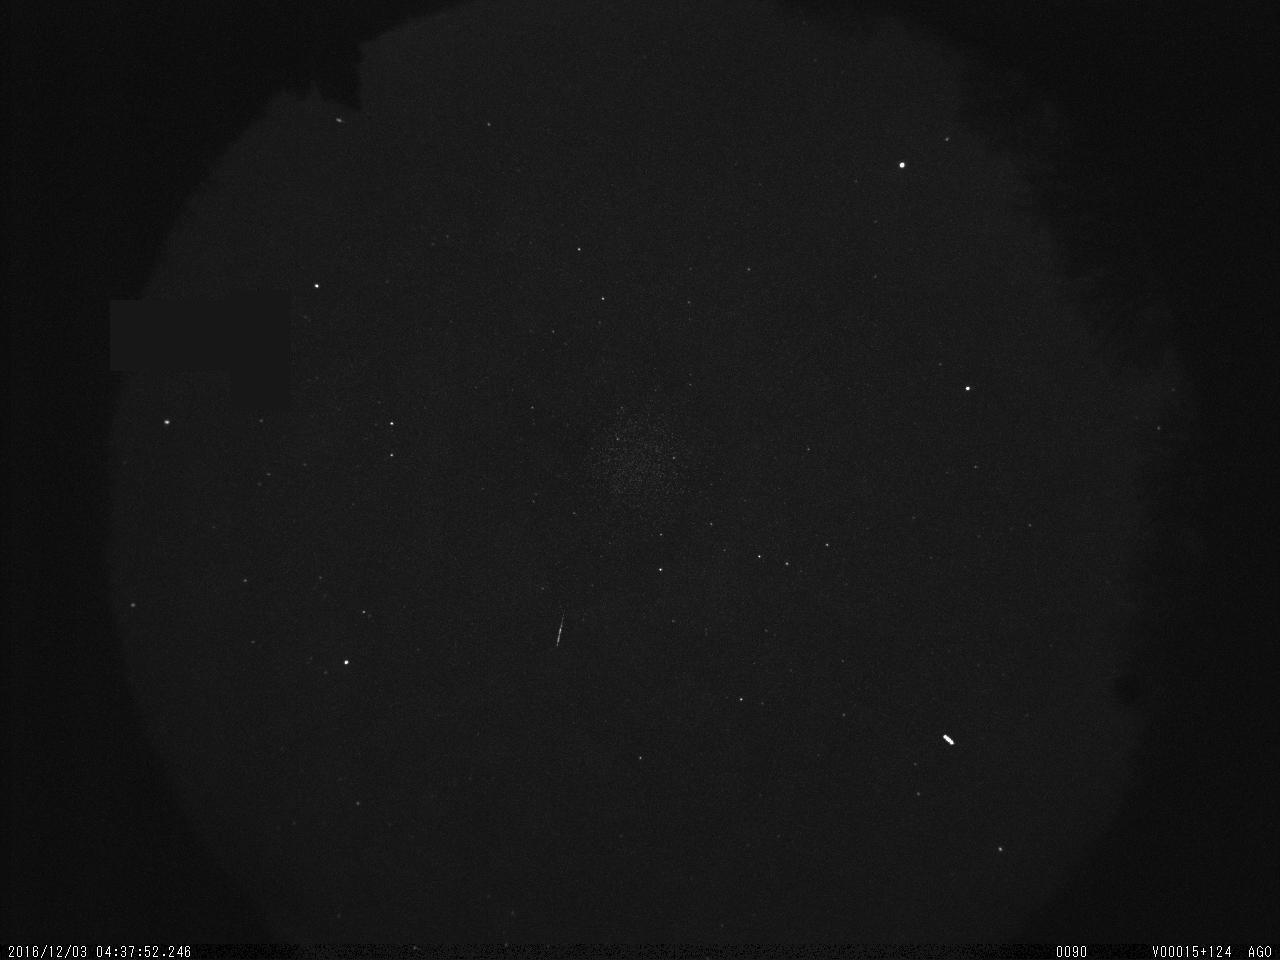Meteor: (552, 605, 568, 651)
